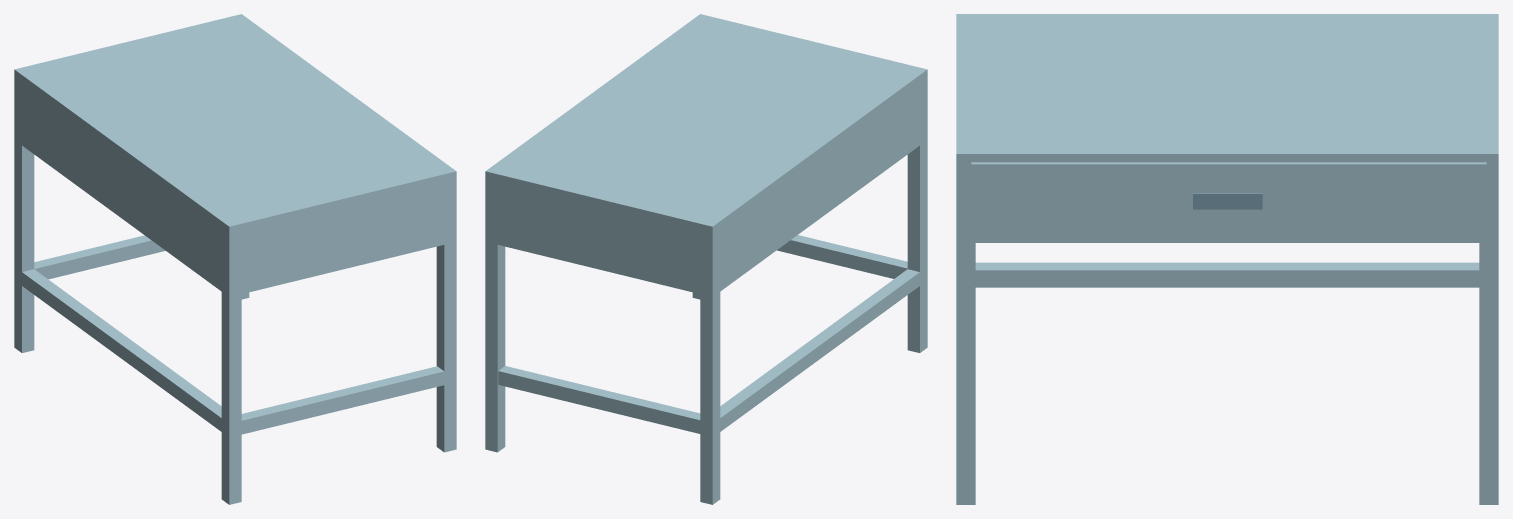
The model's file is Office2_table.fbx.
3 views of the same model, side by side, from view 1: azimuth 30°, elevation 25°; view 2: azimuth 150°, elevation 25°; view 3: azimuth 270°, elevation 25° (orthographic). The views are drawn at different scales.
Parts seen in each view (by area): view 1: Office2_table; view 2: Office2_table; view 3: Office2_table.
Boxes of the visible parts, box(x1,y1,x2,y2) form: Office2_table: box(14, 14, 456, 504); Office2_table: box(485, 14, 927, 504); Office2_table: box(956, 14, 1498, 504).
Bounding box in the file's own units: 121 × 139 × 194.
